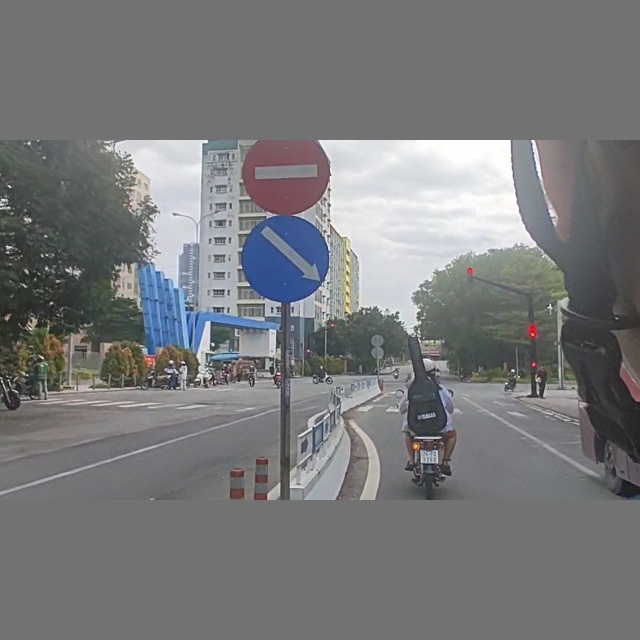P.102: (239, 142, 333, 217)
R.302a: (238, 217, 334, 303)
